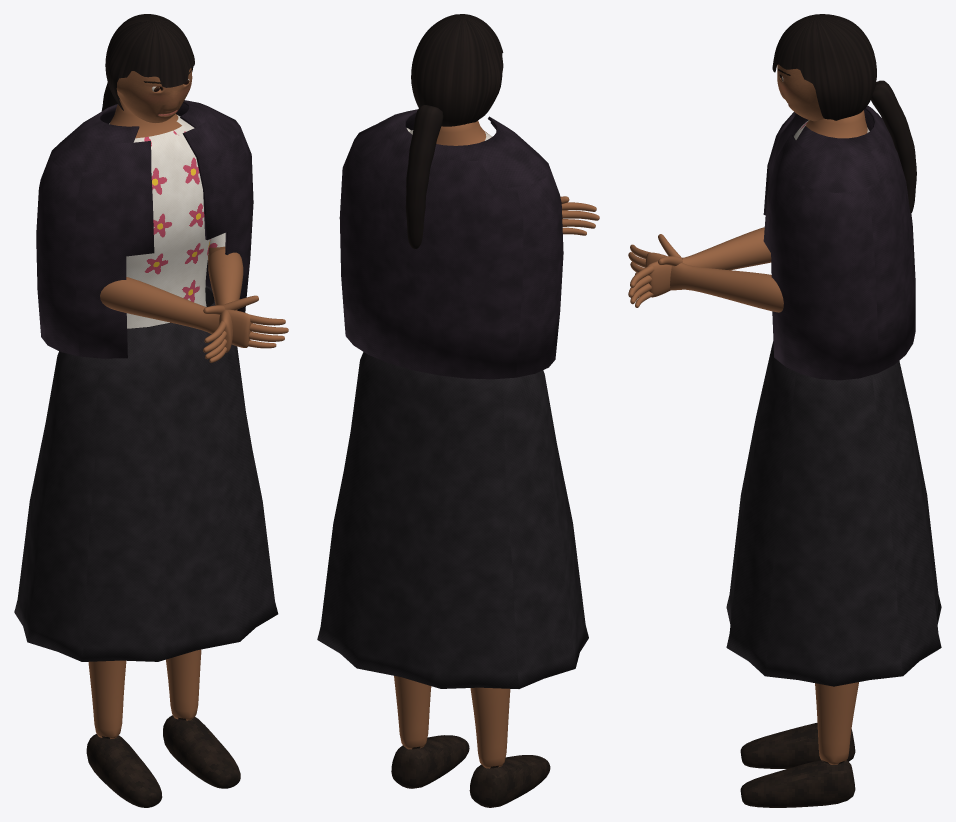
The model's file is persona_mujer_a.obj.
The picture shows the model from 3 angles, left to right: view 1: azimuth 30°, elevation 25°; view 2: azimuth 150°, elevation 25°; view 3: azimuth 270°, elevation 25°; orthographic projection. The views are drawn at different scales.
Parts seen in each view (by area): view 1: Falda, Rebozo, Torso, PiernaDer, PiernaIzq, AntebrazoDer, Pelo, AntebrazoIzq, Cabeza; view 2: Falda, Rebozo, Pelo, PiernaDer, PiernaIzq, AntebrazoIzq, Torso; view 3: Falda, Rebozo, Pelo, PiernaIzq, AntebrazoIzq, AntebrazoDer, PiernaDer, Cabeza, Torso.
Boxes of the visible parts, x1,y1,x2,y2 form: Falda: (14,285,278,661); Rebozo: (36,100,253,358); Torso: (109,99,210,328); PiernaDer: (86,660,162,807); PiernaIzq: (163,649,240,788); AntebrazoDer: (100,277,288,348); Pelo: (101,14,194,110); AntebrazoIzq: (203,249,243,362); Cabeza: (116,68,192,122); Falda: (317,352,588,688); Rebozo: (339,109,563,379); Pelo: (405,14,503,248); PiernaDer: (469,687,550,807); PiernaIzq: (391,676,469,788); AntebrazoIzq: (560,196,599,235); Torso: (409,120,492,145); Falda: (726,341,941,686); Rebozo: (763,105,915,380); Pelo: (772,14,916,213); PiernaIzq: (740,682,858,807); AntebrazoIzq: (628,234,783,312); AntebrazoDer: (628,227,771,307); PiernaDer: (740,722,855,768); Cabeza: (777,64,824,121); Torso: (794,110,869,139).
Bounding box in the file's own units: 0.5356 × 1.62 × 0.599.
12 materials, 12 textured.
